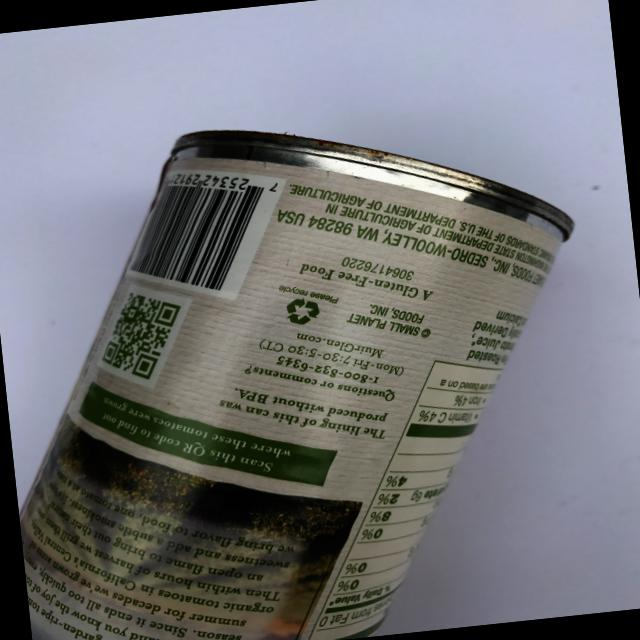Metal: (0, 81, 633, 640)
